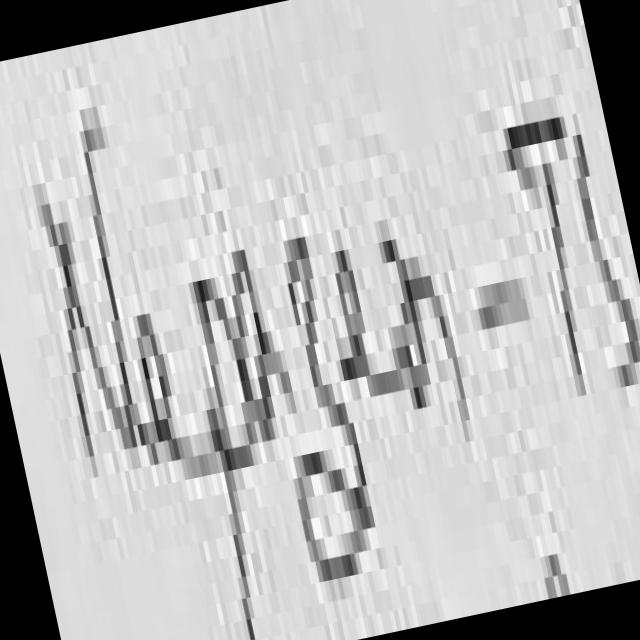N: (43, 106, 139, 456)
S: (578, 134, 640, 376)
T: (509, 116, 588, 385)
Z: (289, 237, 373, 581)
a: (237, 249, 290, 431)
e: (138, 313, 217, 478), (337, 249, 407, 395)
n: (384, 239, 472, 430)
p: (199, 279, 256, 640)
